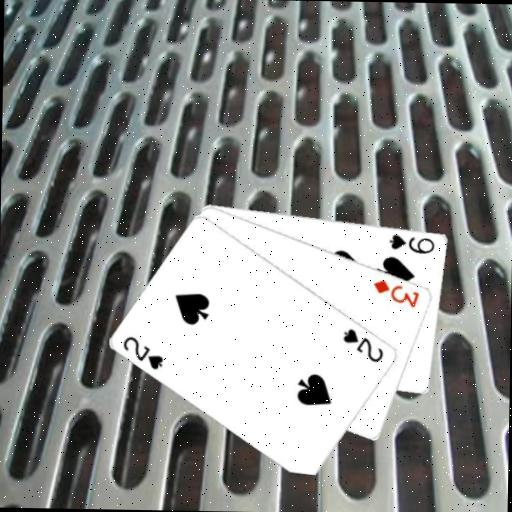2S: (340, 326, 387, 365), (120, 333, 166, 372)
3D: (370, 276, 422, 309)
9S: (386, 231, 437, 256)
